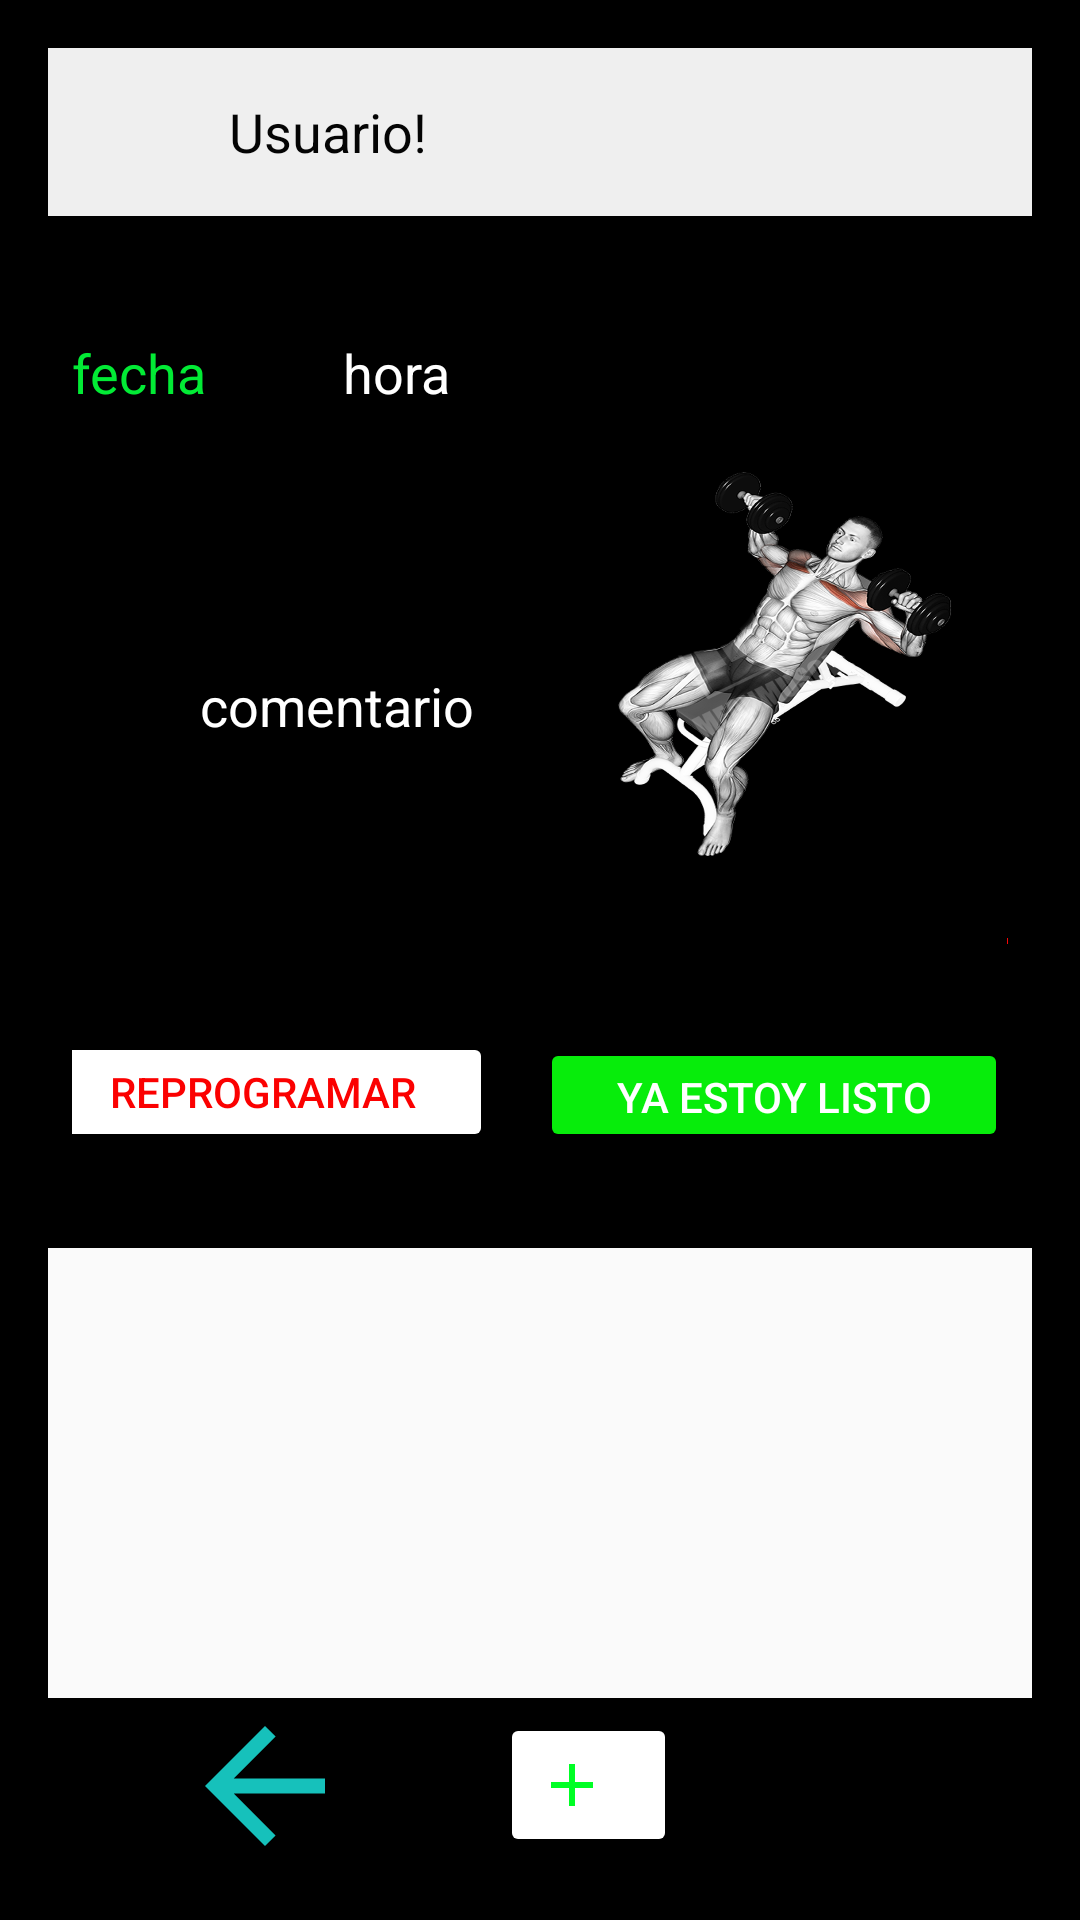

Point at icon controls on the screen. Image size 1080 x 1920, points as point (x, y).
atras: point (265, 1786)
